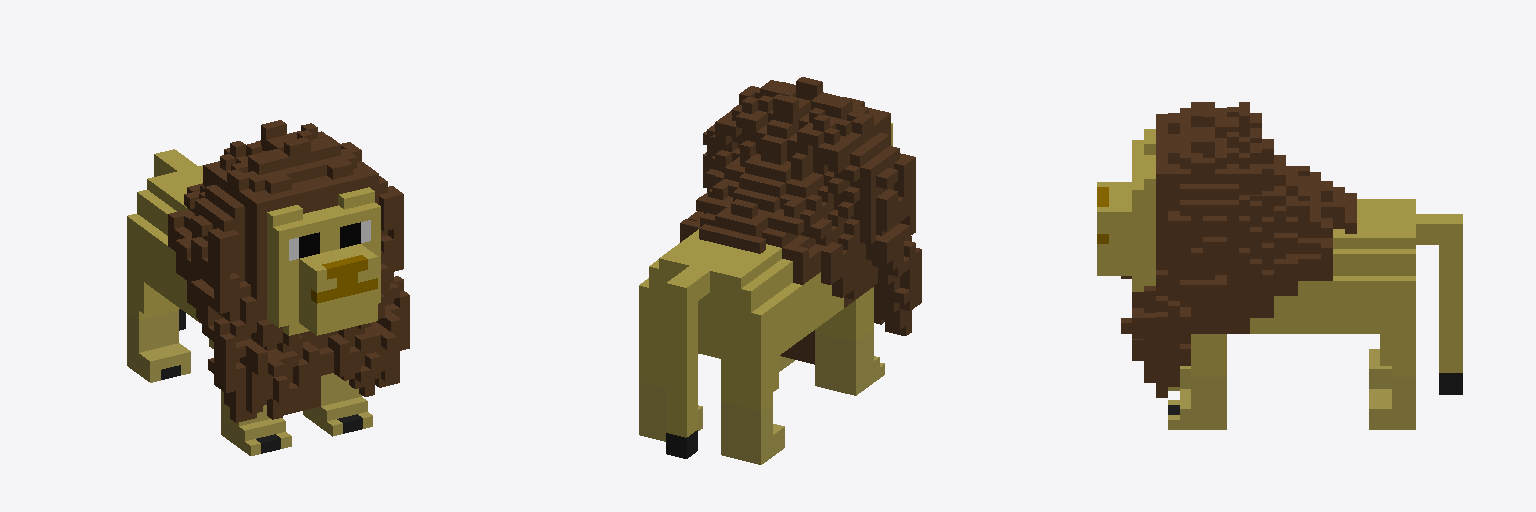
The picture shows the model from 3 angles: view 1: azimuth 30°, elevation 25°; view 2: azimuth 150°, elevation 25°; view 3: azimuth 270°, elevation 25°; orthographic projection.
Parts seen in each view (by area): view 1: pre_lions; view 2: pre_lions; view 3: pre_lions.
Part boxes in pixels (x1,y1,x2,y2): pre_lions: (127, 120, 409, 455); pre_lions: (639, 77, 921, 464); pre_lions: (1097, 102, 1462, 429).
Bounding box in the file's own units: 18 × 27 × 31.
1 materials, 1 textured.